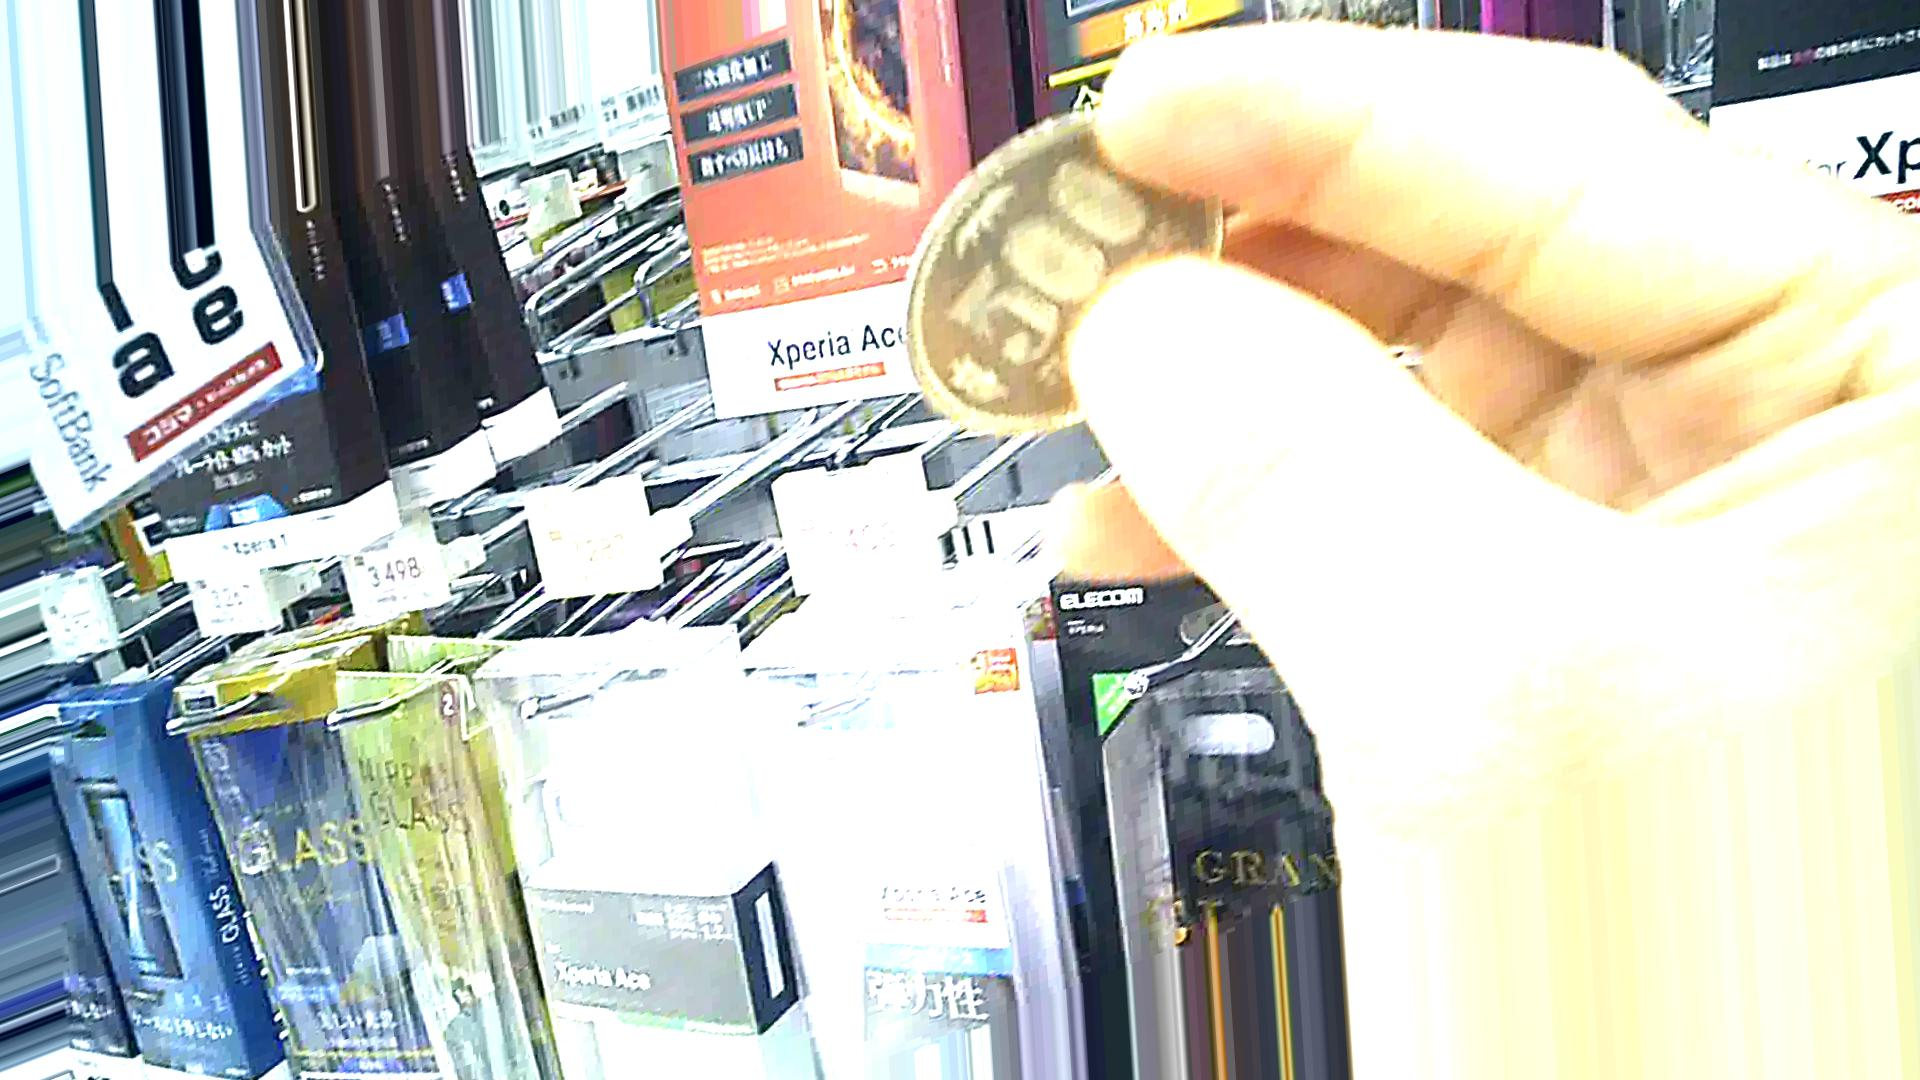500 Yen: (905, 98, 1237, 447)
